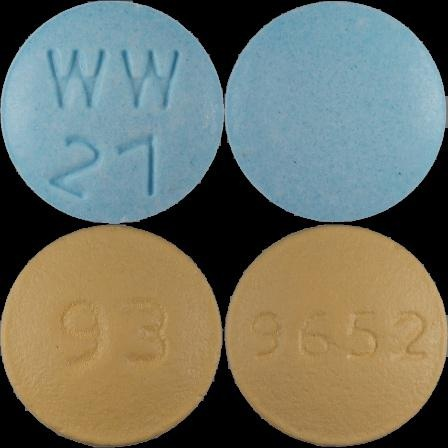16590-324: (0, 0, 224, 224)
